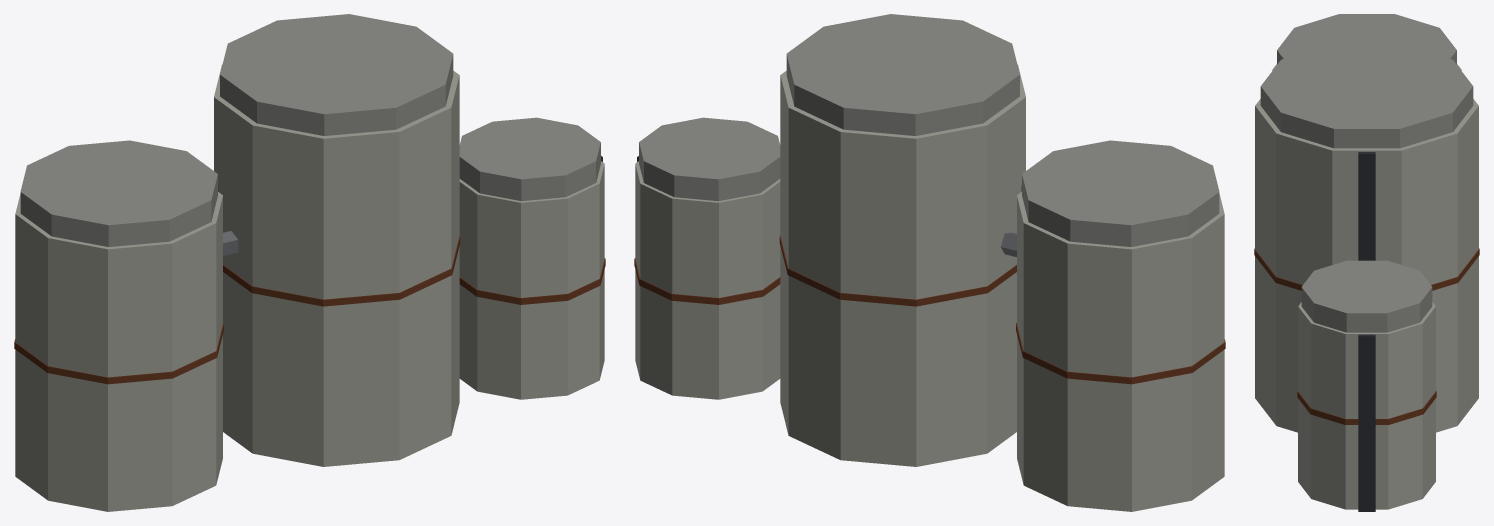
File: bg_industrial_tanks_1_lod1.glb
3 views of the same model, side by side, from view 1: azimuth 30°, elevation 25°; view 2: azimuth 150°, elevation 25°; view 3: azimuth 270°, elevation 25° (orthographic). The views are drawn at different scales.
Parts seen in each view (by area): view 1: body; view 2: body; view 3: body.
Part boxes in pixels (x1=…): body: x1=14, y1=14, x2=605, y2=511; body: x1=634, y1=14, x2=1225, y2=511; body: x1=1254, y1=14, x2=1479, y2=511.
Bounding box in the file's own units: 9 × 5.31 × 3.48.
